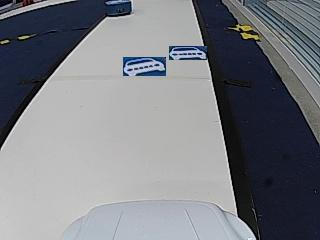prop: (106, 1, 131, 17)
